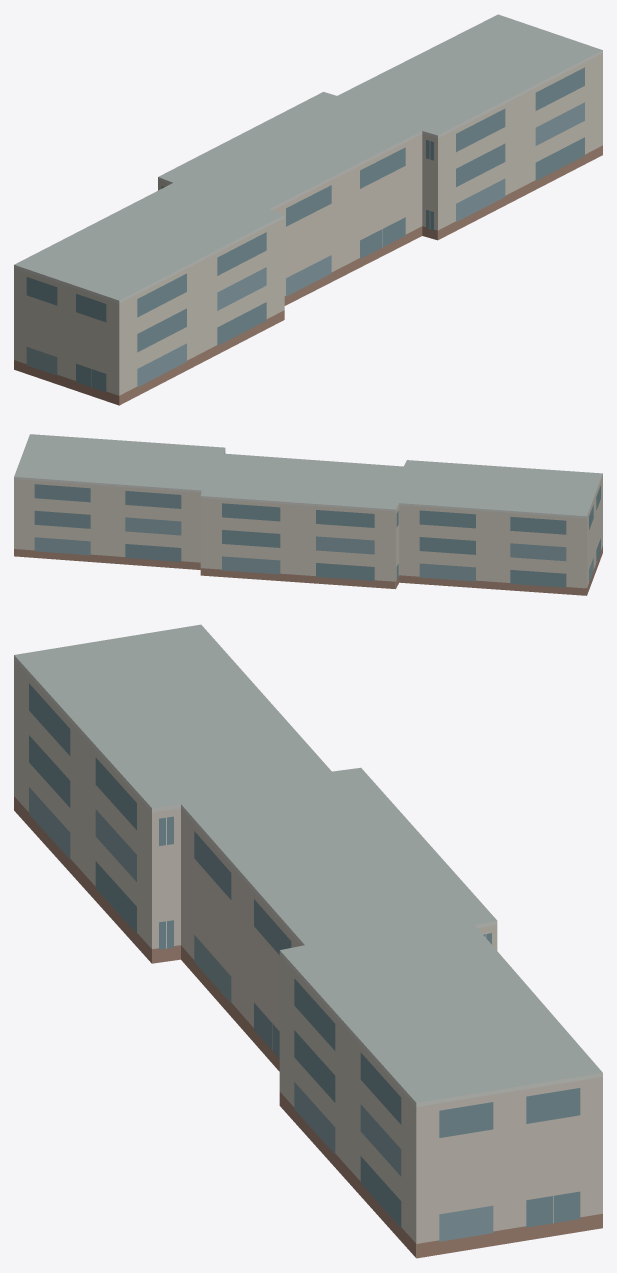
File: survey-upis-32834264.glb
3 renders of one model, top to bottom at view 1: azimuth 30°, elevation 25°; view 2: azimuth 150°, elevation 25°; view 3: azimuth 270°, elevation 25°, orthographic. The views are drawn at different scales.
Visible parts, largest first — view 1: survey-upis-32834264.tmp; view 2: survey-upis-32834264.tmp; view 3: survey-upis-32834264.tmp.
Boxes of the visible parts, x1,y1,x2,y2 form: survey-upis-32834264.tmp: (14,14,602,405); survey-upis-32834264.tmp: (14,434,602,595); survey-upis-32834264.tmp: (14,624,602,1258).
Size of the model in its own units: 60.39 by 9.15 by 31.41.
